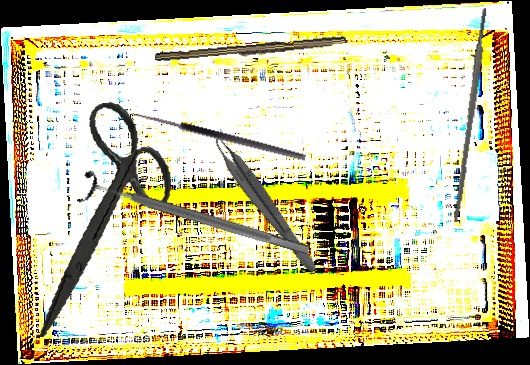Fixation Ring: (76, 167, 314, 268)
Hook Surgical: (125, 109, 307, 170)
Iris Scissors: (7, 95, 192, 338)
Scalpel Handle: (451, 7, 491, 224), (154, 33, 348, 67)
Tissue Forceps: (204, 127, 327, 276)
